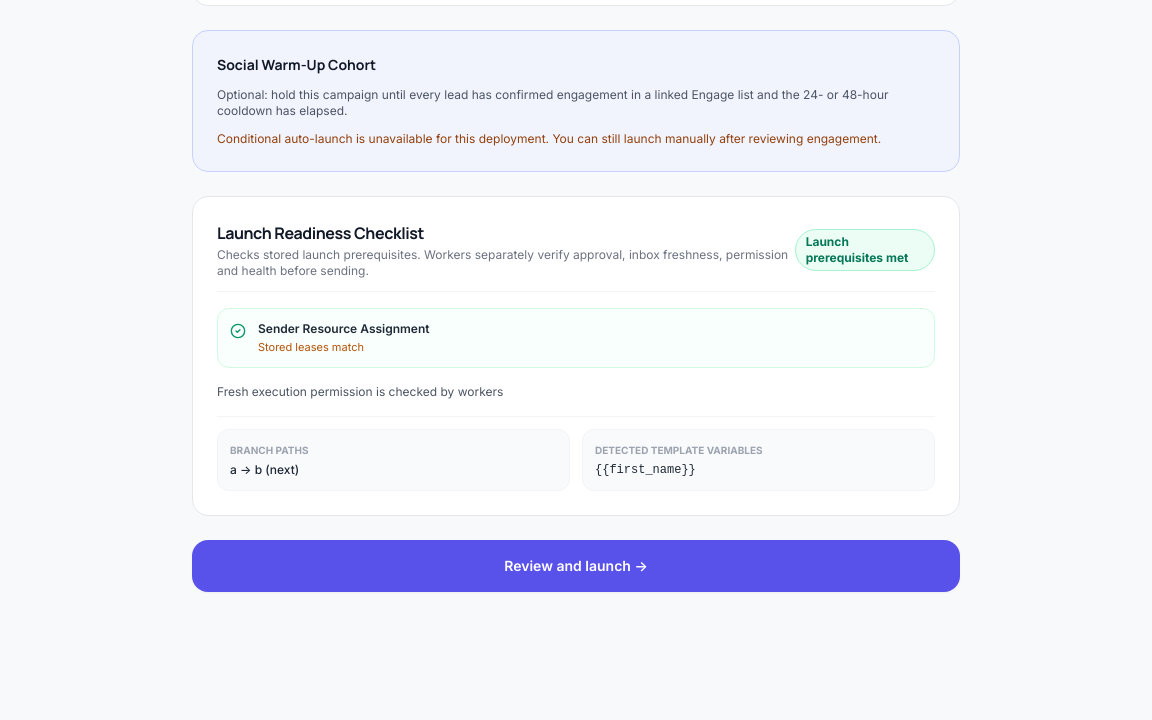
Scenario: First campaign wizard › disables normal launch while review refresh is pending or failed
(page scrolled)
Click the button "Review and launch →". click: (576, 566)
box: [192, 540, 960, 592]
(page scrolled)
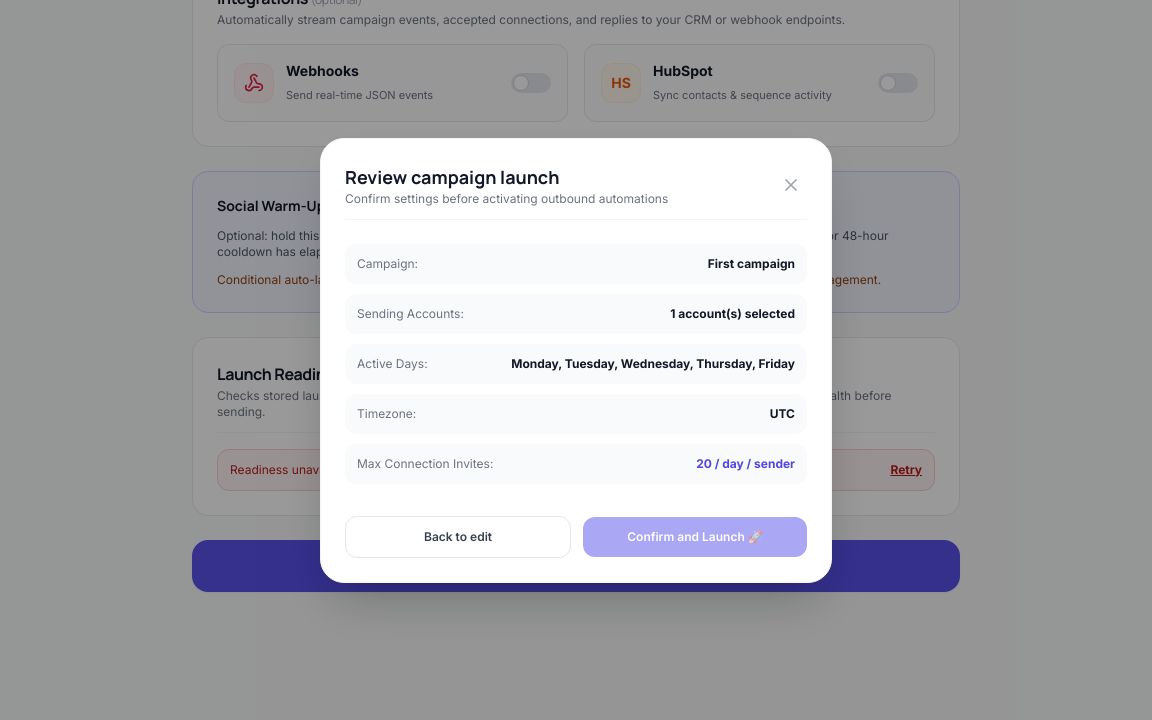
Now the button "Confirm and Launch 🚀" is disabled, box [583, 516, 807, 556]
Now the text "Launch prerequisites met" is gone
Now the text "Readiness unavailable" is shown, box [230, 462, 356, 478]
